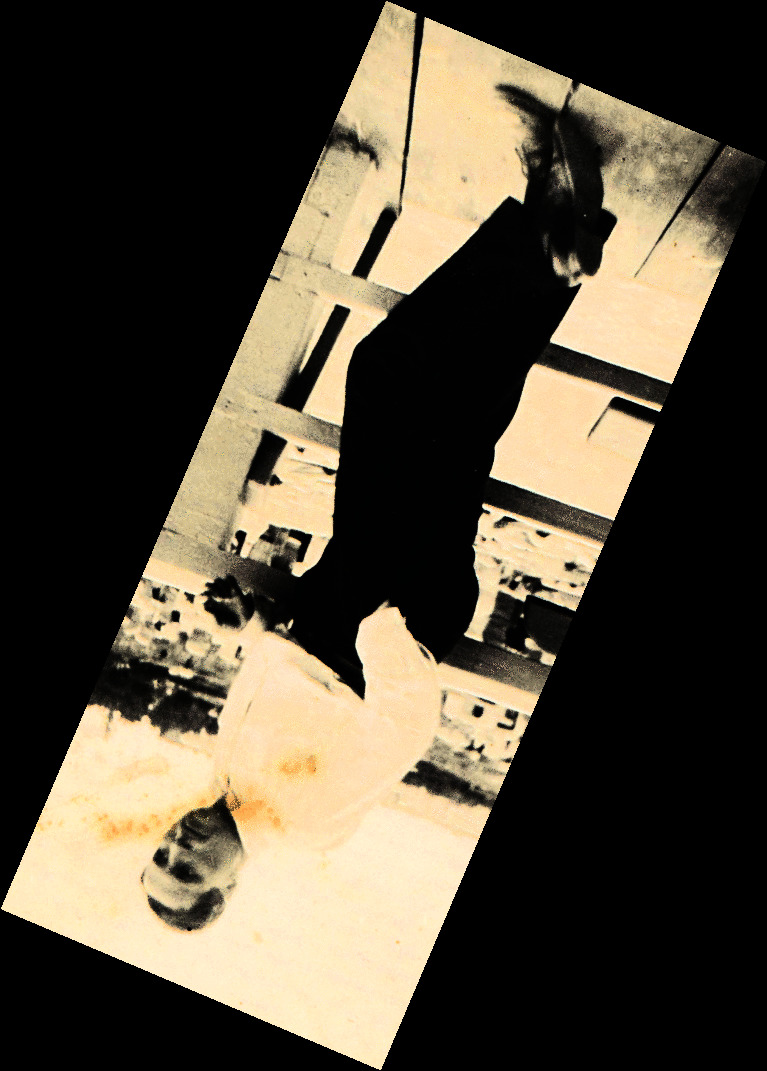face: (136, 796, 241, 933)
